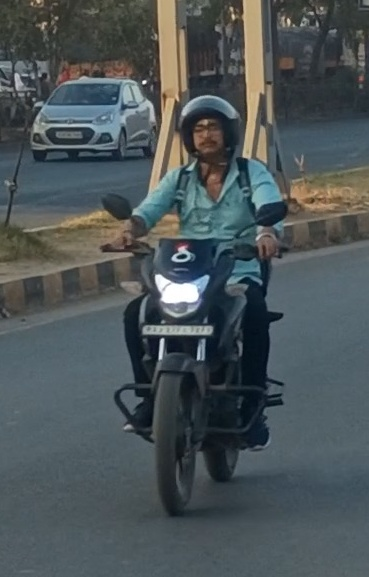BikeWithRider: (89, 87, 299, 521)
Helmet: (171, 89, 248, 167)
